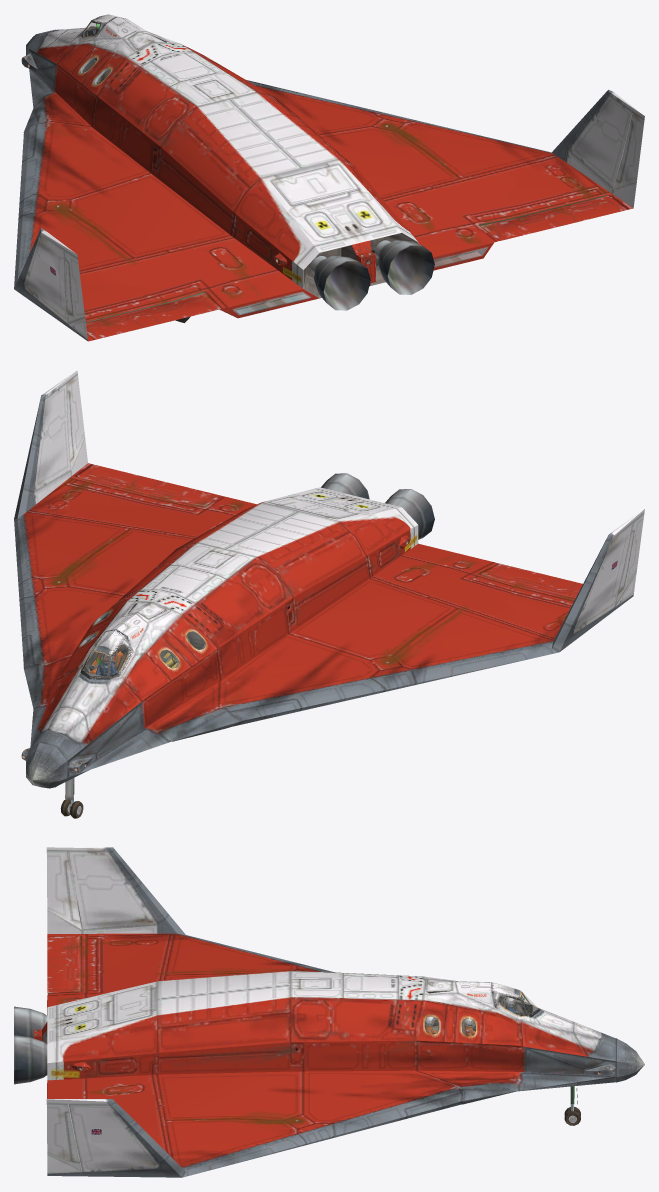
The model's file is dgTest.glb.
3 views of the same model, one above another, from view 1: azimuth 30°, elevation 25°; view 2: azimuth 150°, elevation 25°; view 3: azimuth 270°, elevation 25° (orthographic). The views are drawn at different scales.
Parts seen in each view (by area): view 1: Group_42, Group_94, Group_98, RUAileron1, LUAileron1, Raddoor2, Group_104, Group_103, RRudder1, Group_102, LRudder2; view 2: Group_42, Group_94, RUAileron1, Group_98, LUAileron1, Group_121, RRudder1, Group_104, Group_103, LRudder2, NConeTL2, Raddoor2 (+1 smaller); view 3: Group_42, Group_94, Group_98, LUAileron1, LRudder1, RRudder2, Raddoor2, Group_121, Group_103, Group_107, NConeTR2, Group_104.
Boxes of the visible parts, x1,y1,x2,y2 form: Group_42: (14,68,644,341); Group_94: (21,14,493,318); Group_98: (310,240,434,310); RUAileron1: (480,195,626,240); LUAileron1: (86,292,221,339); Raddoor2: (272,164,357,204); Group_104: (128,248,209,283); Group_103: (412,182,493,210); RRudder1: (613,113,644,189); Group_102: (303,233,417,298); LRudder2: (65,252,84,322); Group_42: (14,370,644,777); Group_94: (21,487,418,785); RUAileron1: (77,464,221,507); Group_98: (321,473,434,539); LUAileron1: (479,563,582,598); Group_121: (80,611,205,675); RRudder1: (66,376,84,471); Group_104: (412,579,493,608); Group_103: (128,513,209,535); LRudder2: (615,514,644,604); NConeTL2: (32,744,67,780); Raddoor2: (270,497,354,518); Group_42: (46,847,614,1177); Group_94: (33,970,616,1098); Group_98: (14,1006,47,1084); LUAileron1: (47,936,81,993); LRudder1: (46,852,82,929); RRudder2: (46,1103,82,1171); Raddoor2: (115,986,150,1023); Group_121: (425,991,537,1035); Group_103: (121,1094,154,1126); Group_107: (91,1128,125,1142); NConeTR2: (616,1042,644,1068); Group_104: (121,971,154,989).
Bounding box in the file's own units: 17.87 × 4.93 × 18.73.
27 materials, 23 textured.
